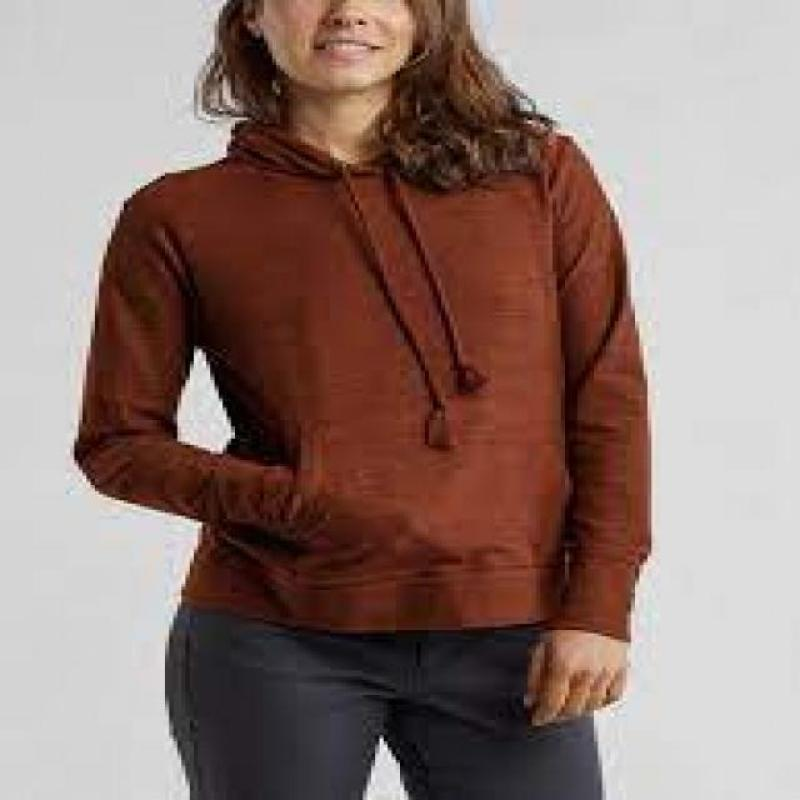sweater: (70, 114, 654, 645)
trousers: (157, 594, 607, 800)
